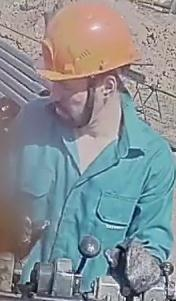gloves: (102, 236, 166, 297)
helmet: (34, 0, 139, 93)
vest: (8, 88, 175, 293)
